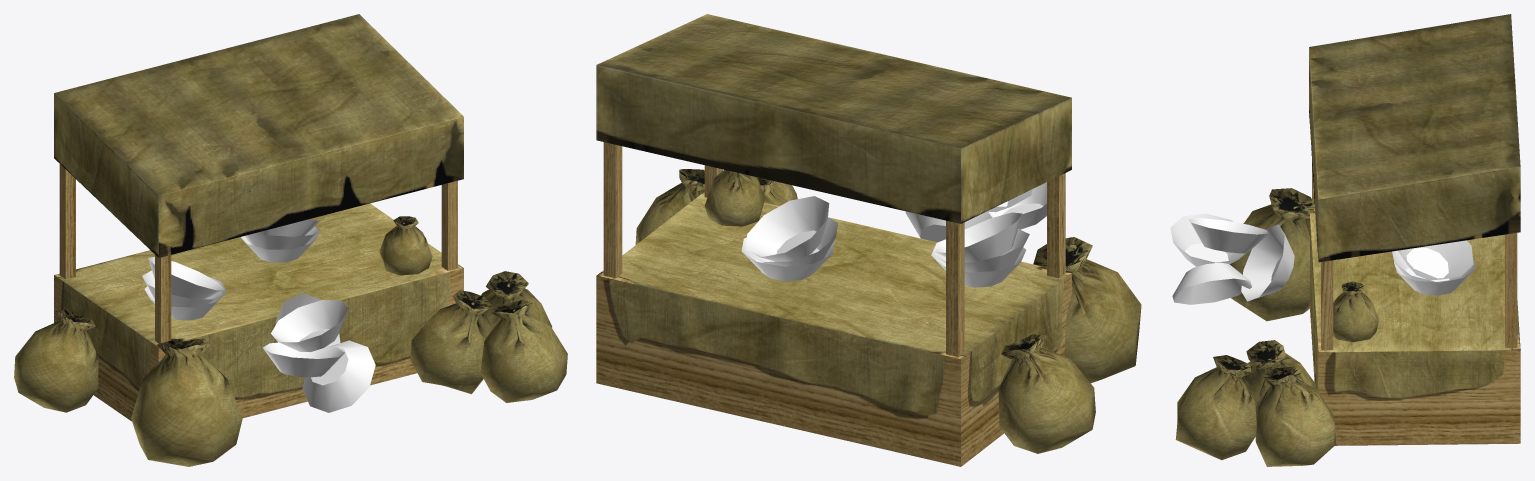
Rendered from store01.fbx.
3 views of the same model, side by side, from view 1: azimuth 30°, elevation 25°; view 2: azimuth 150°, elevation 25°; view 3: azimuth 270°, elevation 25° (orthographic). The views are drawn at different scales.
Visible parts, largest first — view 1: stand_14, bag_124, bag_123, bag_127, bag_126, bowl_134, bowl_131, bag_128, bowl_132, bag_125, bowl_137, bowl_136 (+4 smaller); view 2: stand_14, bag_127, bag_124, bowl_138, bag_128, bowl_137, bag_125, bowl_135, bowl_132, bowl_133, bowl_140, bowl_139 (+1 smaller); view 3: stand_14, bag_123, bag_125, bag_124, bowl_133, bowl_134, bowl_138, bag_128, bowl_131, bag_126, bowl_132, bowl_135 (+1 smaller).
Boxes of the visible parts, <box> form: stand_14: <box>54,14,463,421</box>; bag_124: <box>131,338,242,466</box>; bag_123: <box>480,299,567,402</box>; bag_127: <box>14,309,98,412</box>; bag_126: <box>410,290,493,394</box>; bowl_134: <box>302,340,375,412</box>; bowl_131: <box>271,300,348,352</box>; bag_128: <box>379,216,432,275</box>; bowl_132: <box>263,342,344,377</box>; bag_125: <box>481,271,552,327</box>; bowl_137: <box>148,257,224,299</box>; bowl_136: <box>244,227,318,249</box>; stand_14: <box>596,14,1071,466</box>; bag_127: <box>998,334,1095,453</box>; bag_124: <box>1033,237,1141,383</box>; bowl_138: <box>745,196,829,261</box>; bag_128: <box>704,169,765,226</box>; bowl_137: <box>935,212,1022,262</box>; bag_125: <box>635,169,704,244</box>; bowl_135: <box>741,237,834,281</box>; bowl_132: <box>988,182,1046,229</box>; bowl_133: <box>905,211,992,242</box>; bowl_140: <box>937,228,1029,272</box>; bowl_139: <box>931,239,1025,287</box>; stand_14: <box>1309,14,1520,445</box>; bag_123: <box>1175,355,1256,459</box>; bag_125: <box>1255,366,1335,466</box>; bag_124: <box>1230,188,1314,321</box>; bowl_133: <box>1241,224,1294,301</box>; bowl_134: <box>1172,262,1251,304</box>; bowl_138: <box>1398,240,1473,280</box>; bag_128: <box>1333,281,1378,341</box>; bowl_131: <box>1188,218,1269,253</box>; bag_126: <box>1244,340,1315,420</box>; bowl_132: <box>1170,213,1245,266</box>; bowl_135: <box>1394,259,1475,295</box>.
Size of the model in its own units: 97.13 by 58.25 by 63.99.
